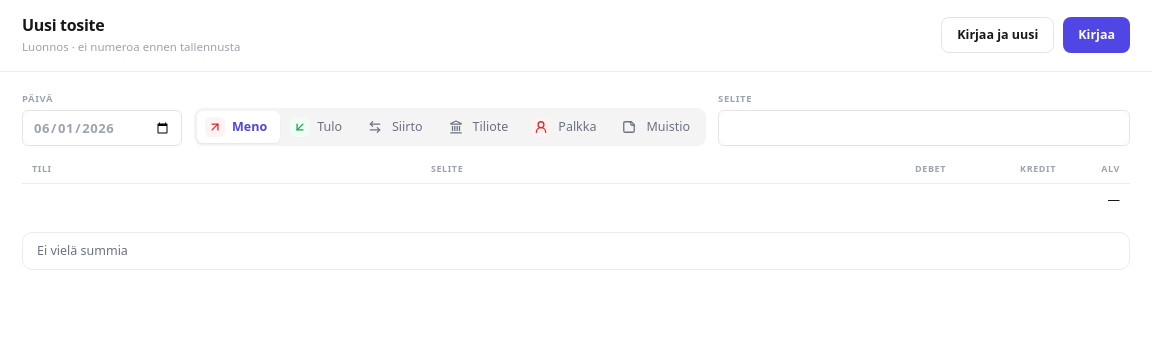
Test: TositeEditori — automaattisen tallennuksen kytkennät › Kirjaa-tekstit: painikkeet ja vahvistus
The width and height of the screenshot is (1152, 341).
expect the button "Kirjaa" is shown: met, box [1063,17,1130,53]
Click the button "Kirjaa ja uusi" at (998, 35), box [941,17,1054,53]
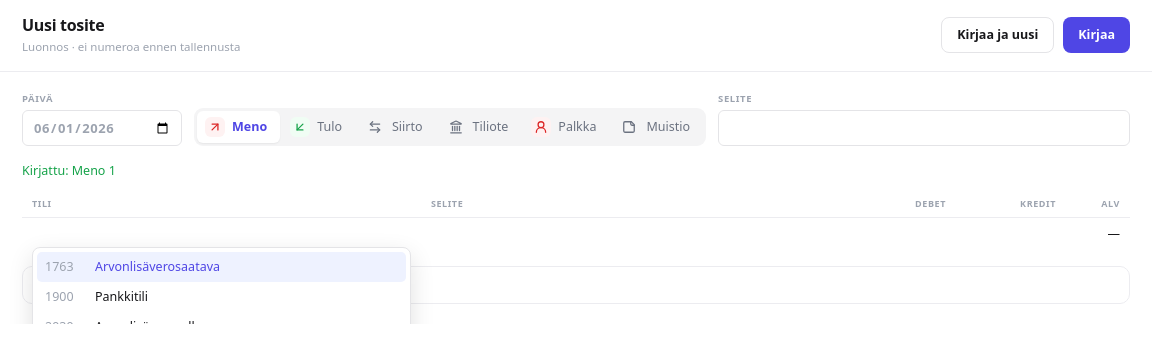
expect the text "Kirjattu: Meno 1" is shown: met, box [22,162,116,180]
